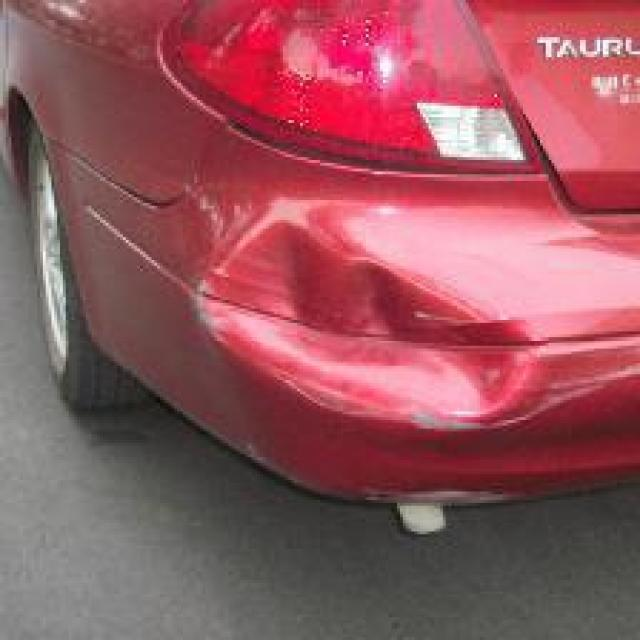damaged: (186, 220, 543, 443)
